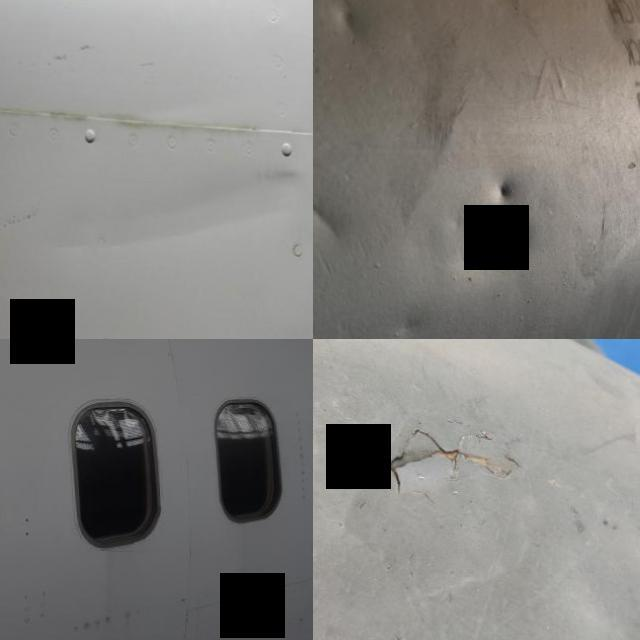Crack: (368, 416, 518, 513)
Dent: (43, 199, 292, 258), (422, 218, 536, 279), (313, 0, 379, 63), (313, 188, 360, 262), (476, 161, 526, 216)
